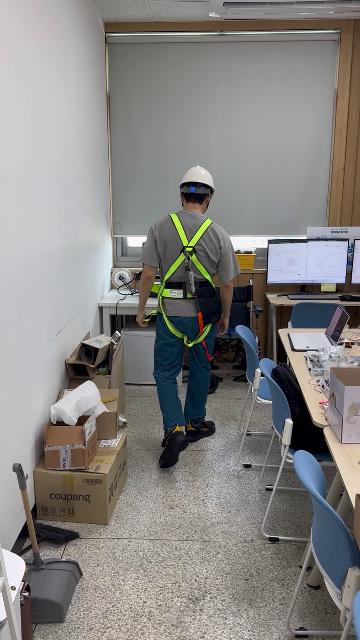helmet_worn: (179, 164, 215, 194)
shoe_worn: (159, 423, 189, 468), (183, 417, 215, 442)
vest_worn: (146, 215, 221, 345)
